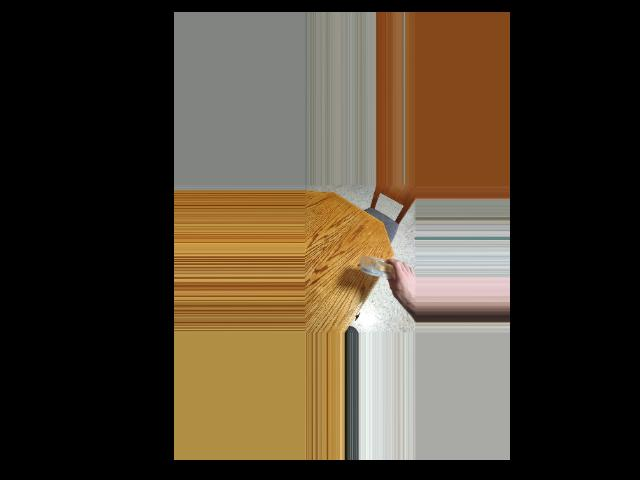cheese: (362, 254, 395, 285)
